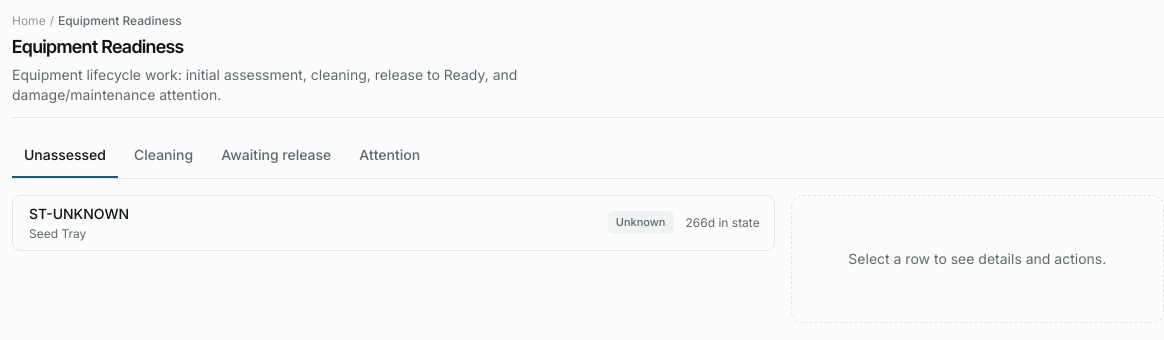
EquipmentCleaningQueuePage: durable views over the real lifecycle states › defaults to Unassessed (UNKNOWN) and switches views via URL state
The image size is (1164, 340).
expect the text "ST-UNKNOWN" is shown: met, box [29,204,129,224]
Click the tab "Cleaning".
click(164, 156)  # box [122,134,205,178]
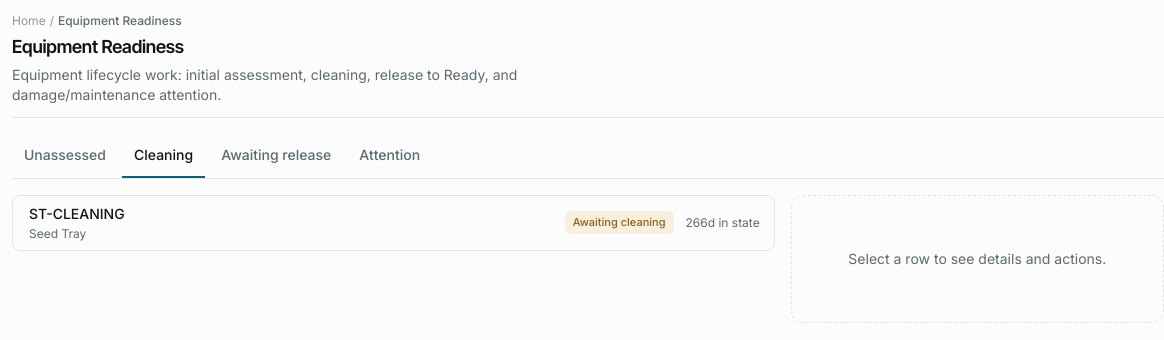
expect the text "ST-CLEANING" is shown: met, box [29,204,125,224]
expect the button "ST-UNKNOWN" is gone: met
